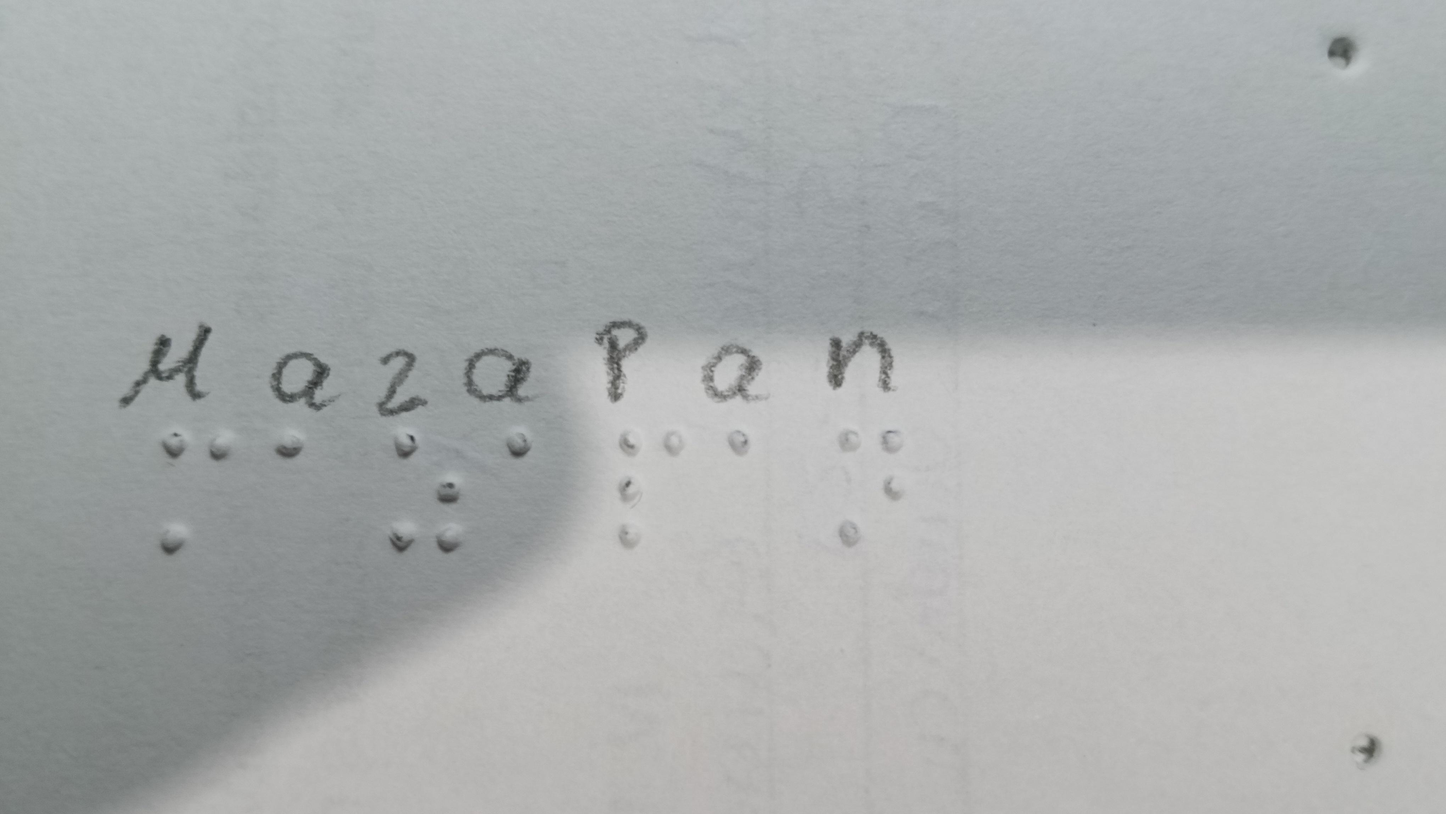a: (259, 411, 328, 479), (486, 413, 549, 477), (702, 424, 776, 466)
m: (147, 409, 241, 569)
n: (803, 418, 939, 562)
p: (592, 420, 702, 560)
z: (374, 425, 480, 565)
